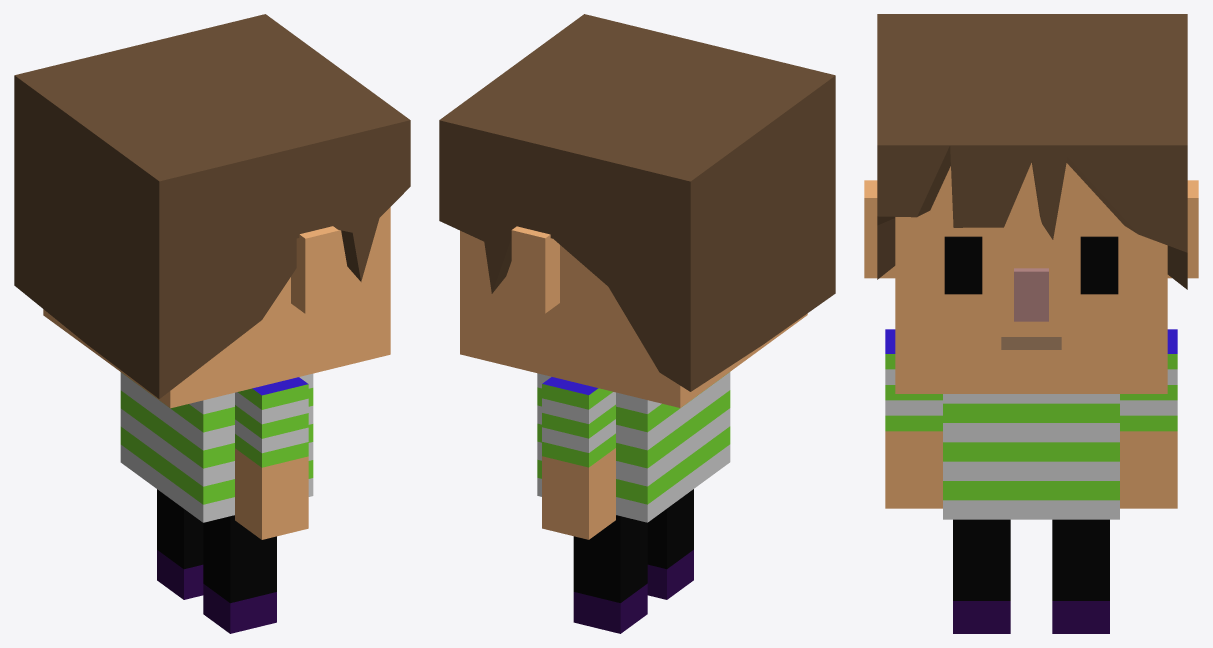
Rendered from orang_2_hijau.fbx.
3 renders of one model, left to right at view 1: azimuth 30°, elevation 25°; view 2: azimuth 150°, elevation 25°; view 3: azimuth 270°, elevation 25°, orthographic. The views are drawn at different scales.
Parts seen in each view (by area): view 1: Human.003; view 2: Human.003; view 3: Human.003.
Part boxes in pixels (bbox=[...]): Human.003: bbox=[14, 14, 410, 633]; Human.003: bbox=[439, 14, 835, 633]; Human.003: bbox=[864, 14, 1198, 633].
Size of the model in its own units: 114 by 219 by 123.
3 materials, 1 textured.
